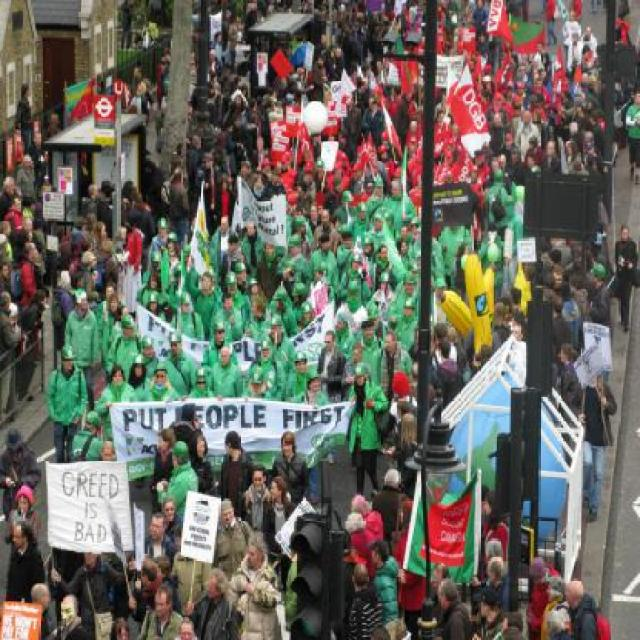Person: (0, 0, 638, 638), (606, 221, 639, 334), (566, 572, 612, 636), (624, 88, 638, 184)
